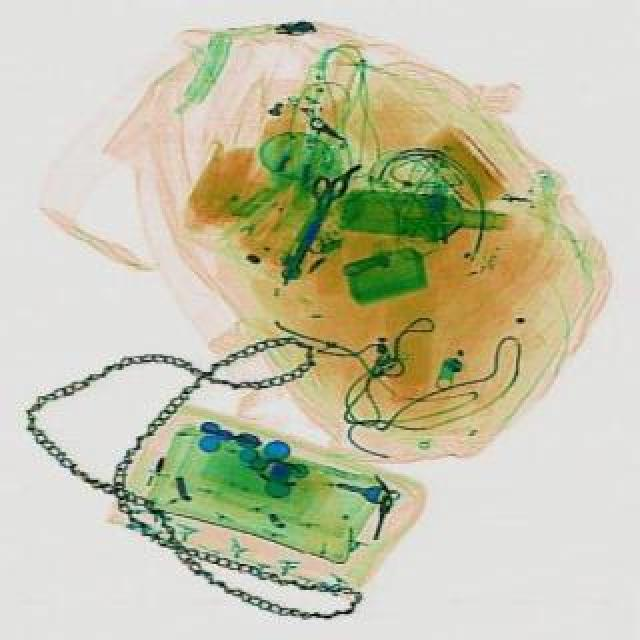pliers: (270, 166, 350, 290)
